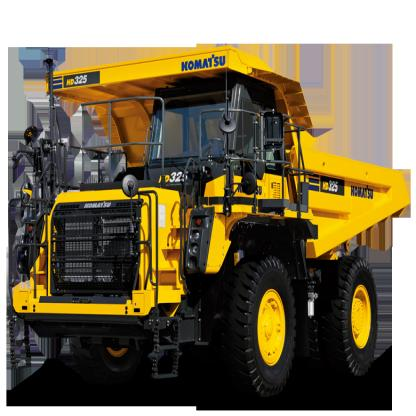dump_truck: (5, 47, 411, 395)
